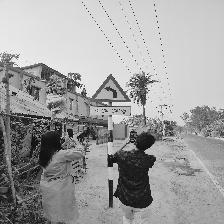Left-Turn: (86, 70, 133, 118)
